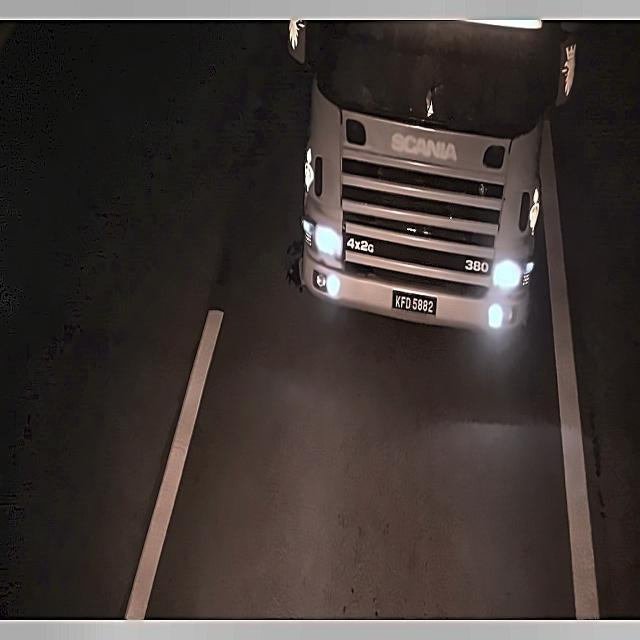car: (387, 288, 440, 322)
